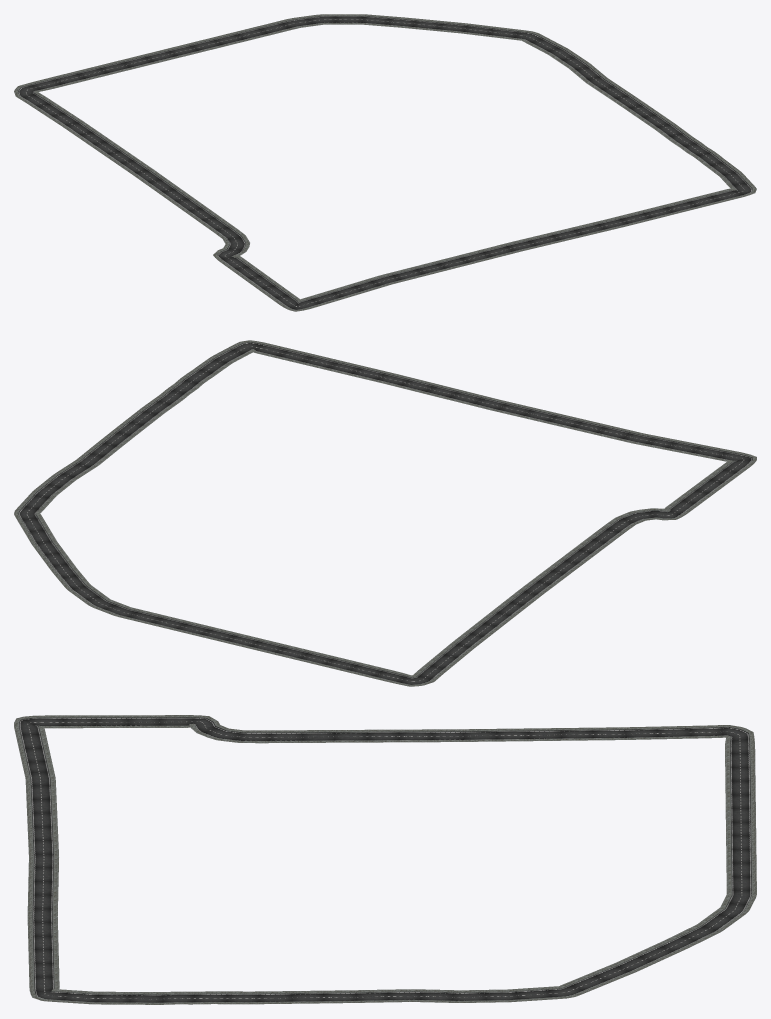
Rendered from road1.fbx.
The picture shows the model from 3 angles, top to bottom: view 1: azimuth 30°, elevation 25°; view 2: azimuth 150°, elevation 25°; view 3: azimuth 270°, elevation 25°; orthographic projection. The views are drawn at different scales.
Parts seen in each view (by area): view 1: Plano.001; view 2: Plano.001; view 3: Plano.001.
Boxes of the visible parts, x1=… form: Plano.001: x1=14, y1=14, x2=756, y2=311; Plano.001: x1=14, y1=340, x2=756, y2=686; Plano.001: x1=14, y1=715, x2=756, y2=1004.
Size of the model in its own units: 102657 by 85.36 by 111237.
